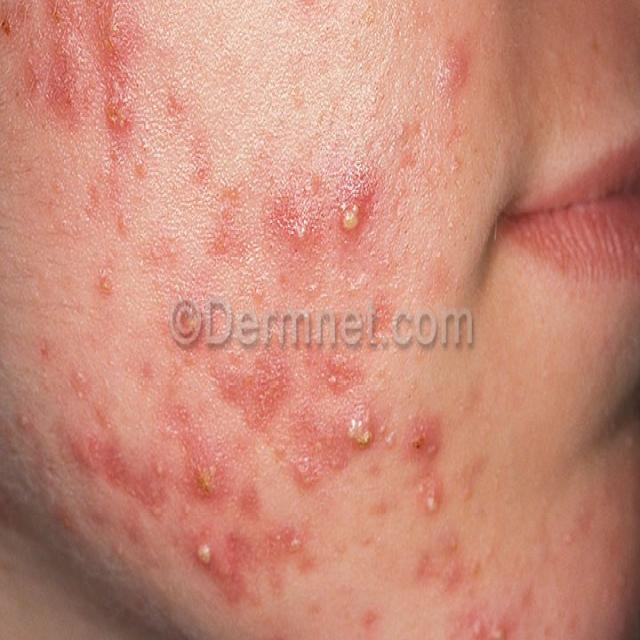Pimples: (184, 432, 237, 509), (425, 32, 473, 105), (339, 402, 380, 465), (283, 200, 319, 256), (333, 191, 371, 238), (278, 519, 313, 568), (415, 475, 448, 524), (188, 533, 222, 575), (10, 394, 37, 445), (92, 268, 122, 307), (33, 329, 57, 373), (441, 526, 465, 557)
